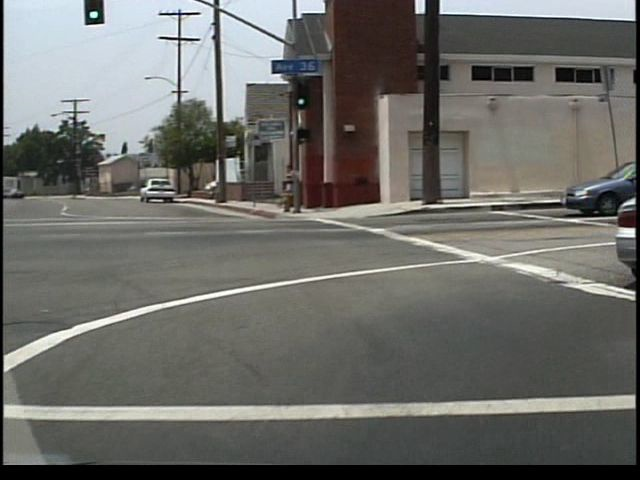person: (287, 163, 305, 214)
